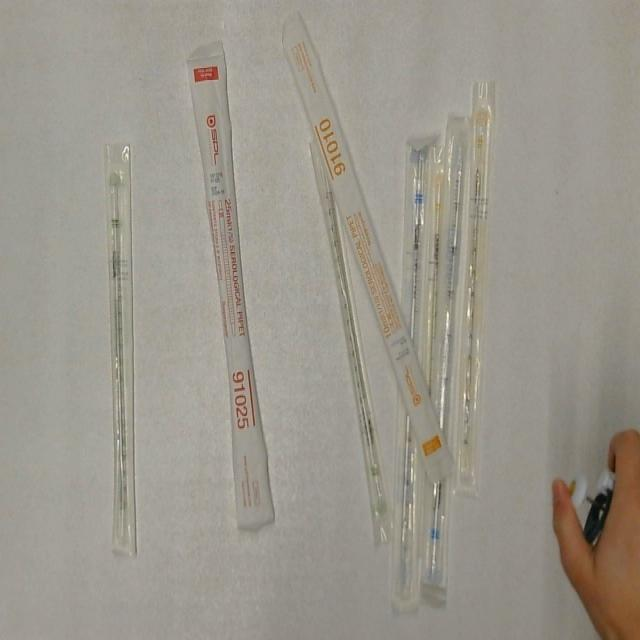Serelogical Pipet 1 mL - Sealed: (453, 78, 499, 497)
Serelogical Pipet 10 mL - Sealed: (281, 8, 457, 485)
Serelogical Pipet 2 mL - Sealed: (309, 137, 397, 550), (98, 135, 140, 559)
Serelogical Pipet 25 mL - Sealed: (184, 42, 279, 536)
Serelogical Pipet 5 mL - Sealed: (420, 109, 477, 595), (389, 125, 434, 618)
Single Channel Pipettor: (567, 462, 622, 545)
